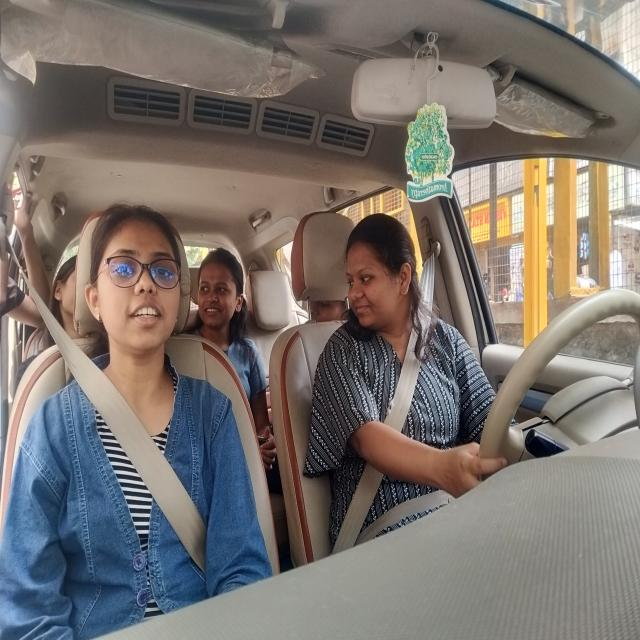LeftRight: (342, 209, 422, 332)
person: (90, 204, 184, 359), (191, 248, 247, 335), (52, 255, 77, 319), (309, 299, 349, 326)
